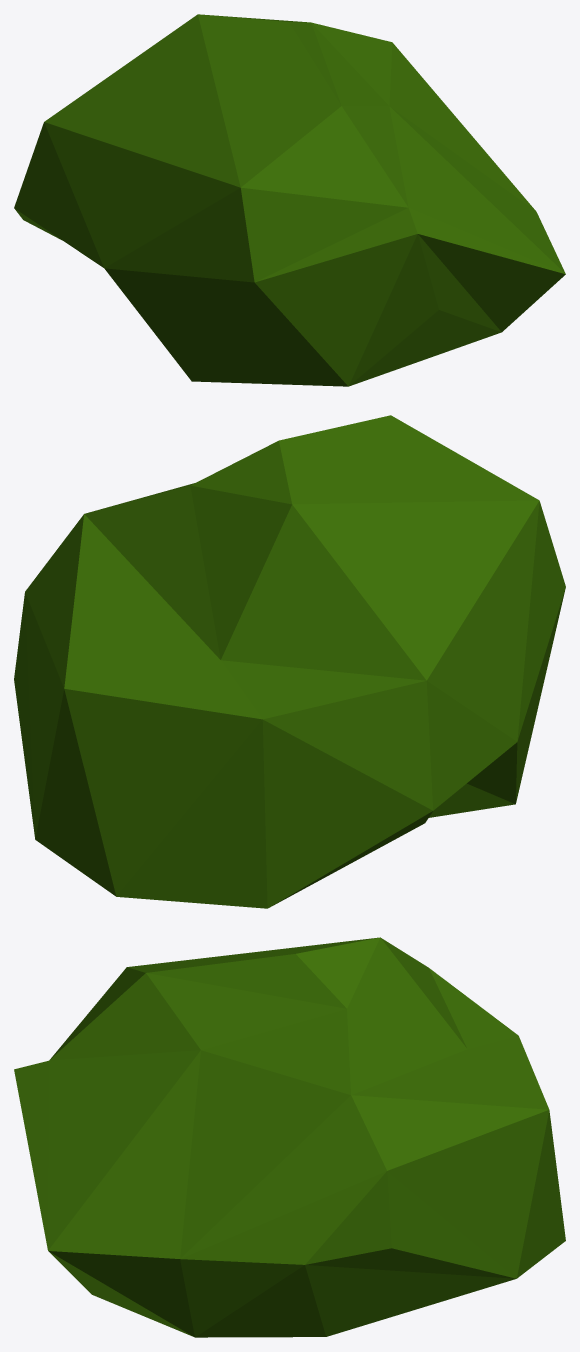
File: bush_11.FBX
The picture shows the model from 3 angles, top to bottom: view 1: azimuth 30°, elevation 25°; view 2: azimuth 150°, elevation 25°; view 3: azimuth 270°, elevation 25°; orthographic projection. The views are drawn at different scales.
Parts seen in each view (by area): view 1: bush_11; view 2: bush_11; view 3: bush_11.
Boxes of the visible parts, box(x1,y1,x2,y2) form: bush_11: box(14, 14, 565, 386); bush_11: box(14, 415, 565, 908); bush_11: box(14, 937, 565, 1337).
Size of the model in its own units: 226 by 165 by 262.
